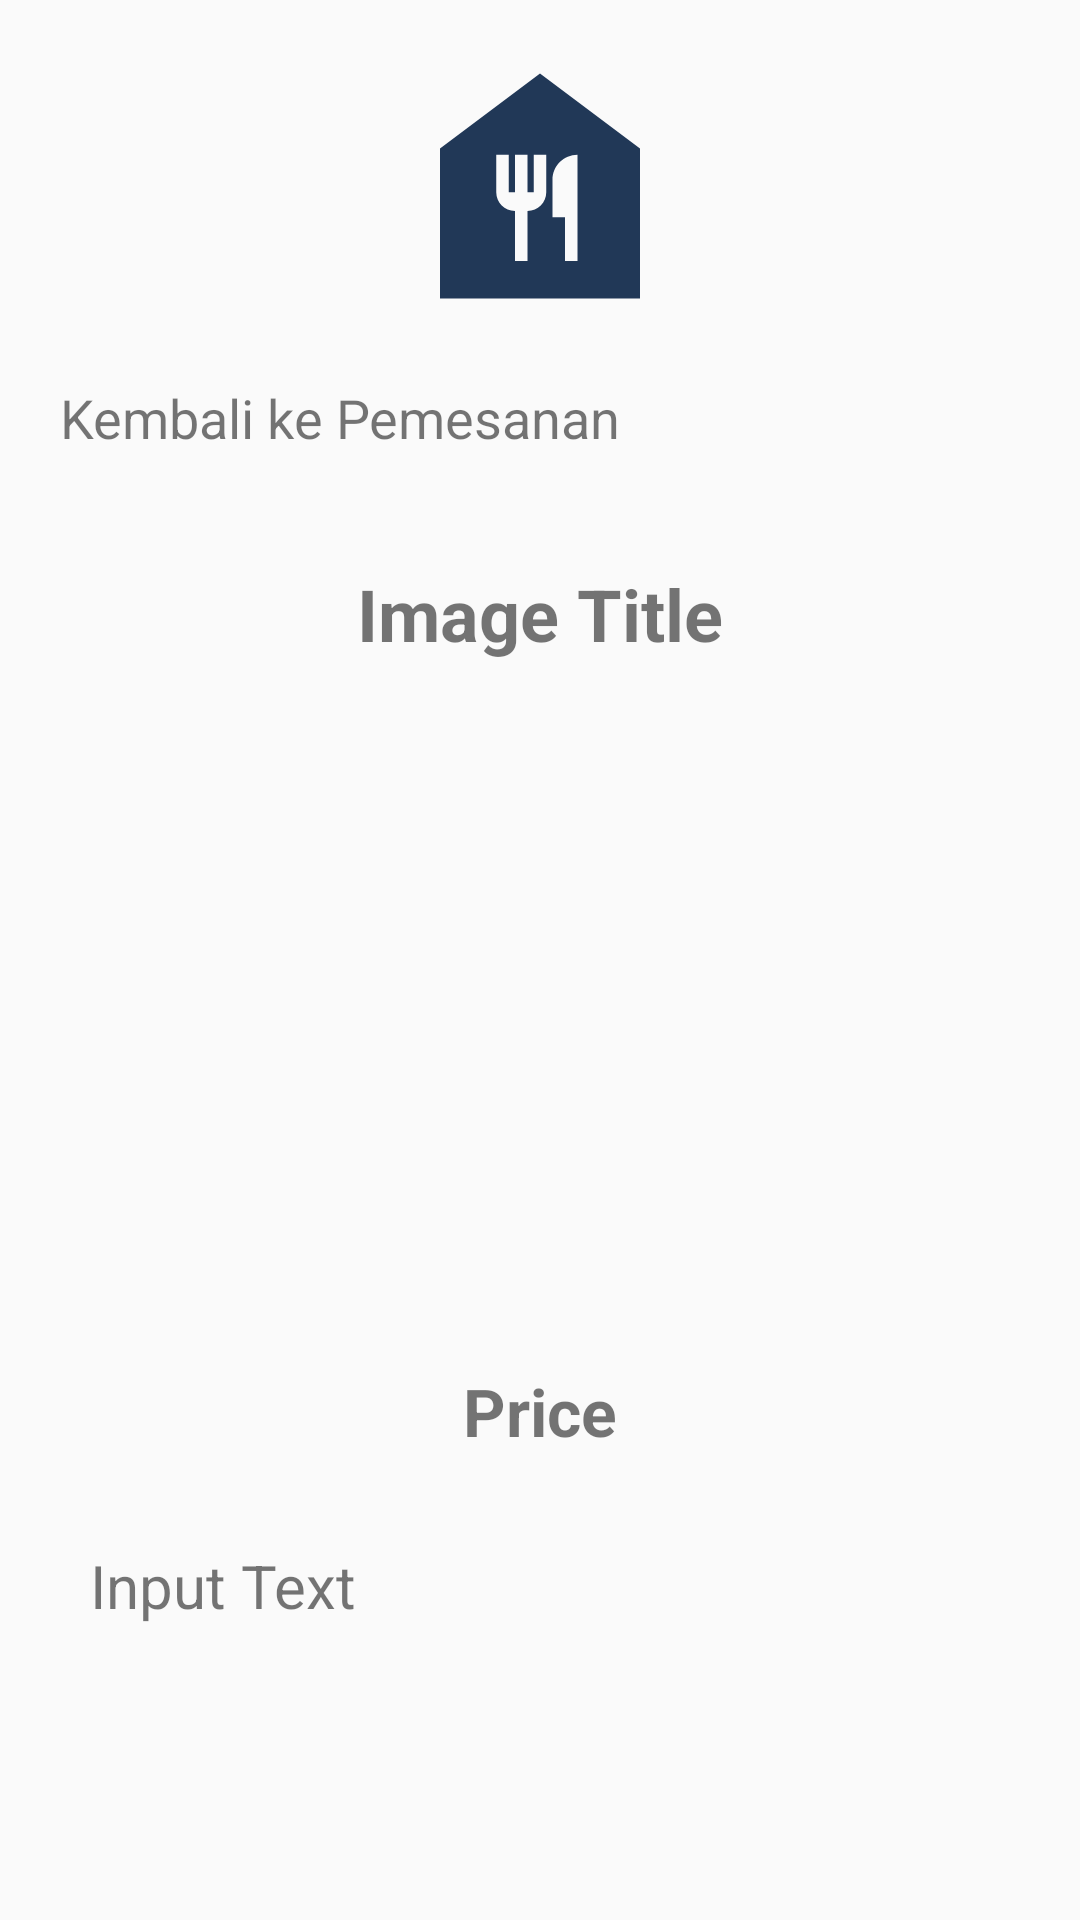

Icon bounding boxes for this 1080x1920 phone screenshot, format (x1, y1, x2, y2):
food bank: (440, 73, 640, 299)
